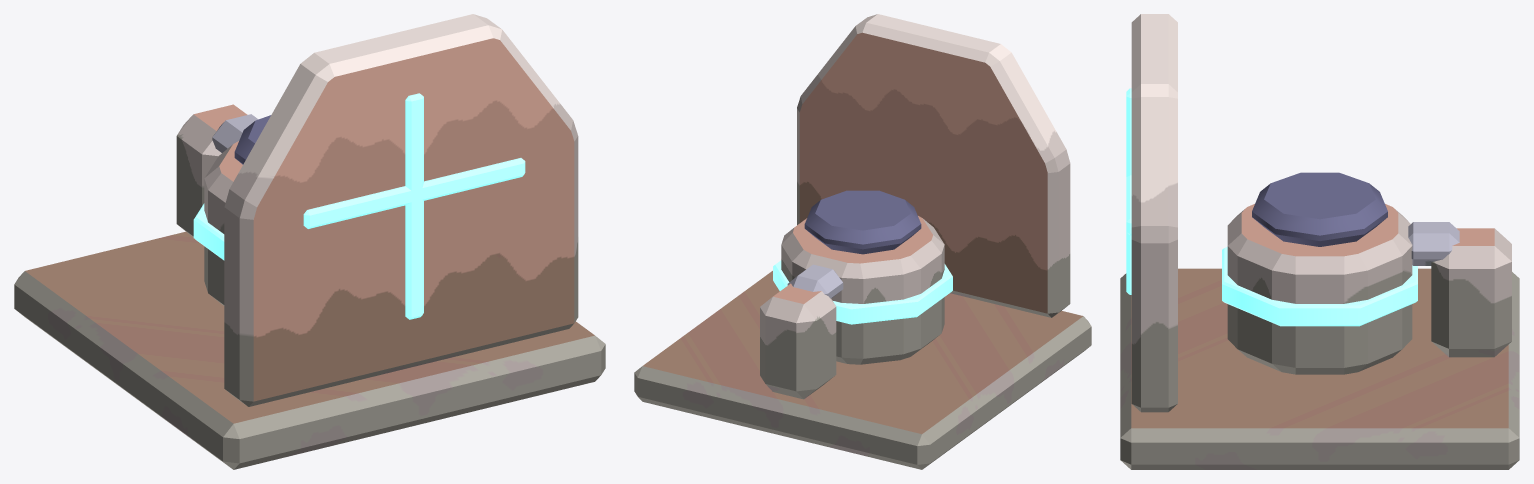
File: R4X_DefensiveTurretDeployer_LOD1.glb
3 renders of one model, left to right at view 1: azimuth 30°, elevation 25°; view 2: azimuth 150°, elevation 25°; view 3: azimuth 270°, elevation 25°, orthographic. The views are drawn at different scales.
Parts seen in each view (by area): view 1: R4X_DefensiveTurretDeployer_LOD1; view 2: R4X_DefensiveTurretDeployer_LOD1; view 3: R4X_DefensiveTurretDeployer_LOD1.
Boxes of the visible parts, left/top/right/bottom form: R4X_DefensiveTurretDeployer_LOD1: left=14, top=14, right=605, bottom=469; R4X_DefensiveTurretDeployer_LOD1: left=634, top=14, right=1091, bottom=469; R4X_DefensiveTurretDeployer_LOD1: left=1120, top=14, right=1519, bottom=469.
Bounding box in the file's own units: 0.52 × 0.49 × 0.52.
5 materials, 4 textured.
